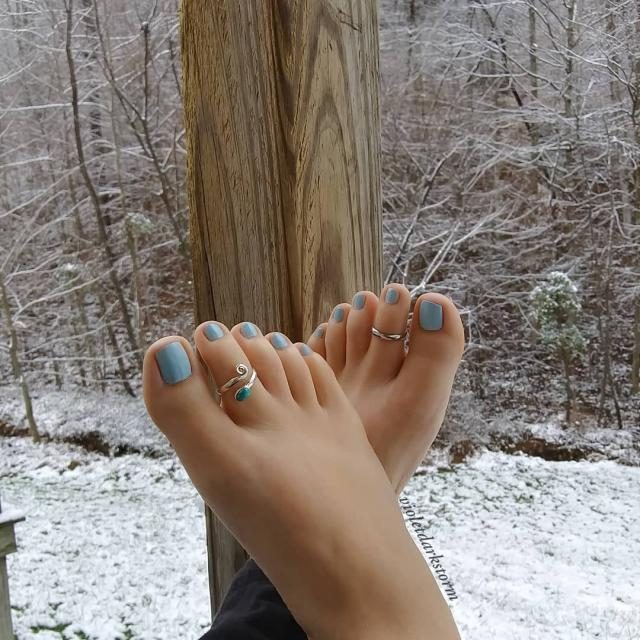Barefoots: (110, 294, 462, 640), (271, 284, 477, 499)
